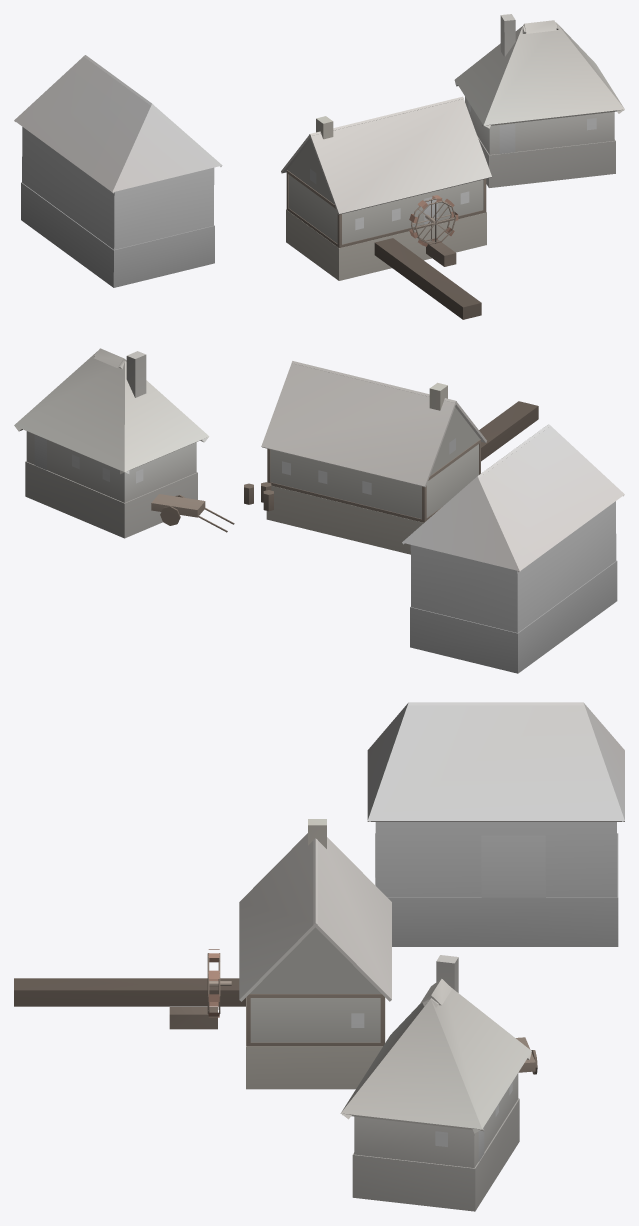
The model's file is mill_2.glb.
The picture shows the model from 3 angles, top to bottom: view 1: azimuth 30°, elevation 25°; view 2: azimuth 150°, elevation 25°; view 3: azimuth 270°, elevation 25°; orthographic projection. The views are drawn at different scales.
Parts seen in each view (by area): view 1: mill_2; view 2: mill_2; view 3: mill_2.
Boxes of the visible parts, <box> form: mill_2: <box>14,14,624,319</box>; mill_2: <box>14,348,624,673</box>; mill_2: <box>14,702,624,1211</box>.
Bounding box in the file's own units: 39.66 × 11.67 × 30.39.
